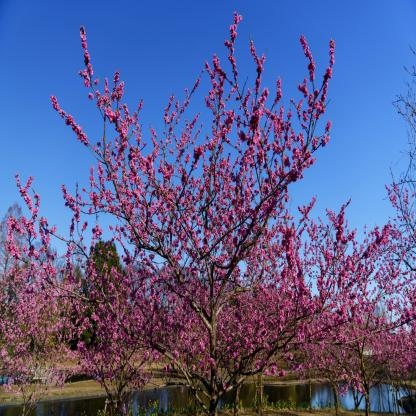Momo: (50, 9, 390, 397), (0, 168, 90, 416), (68, 230, 173, 400), (326, 198, 416, 385)
